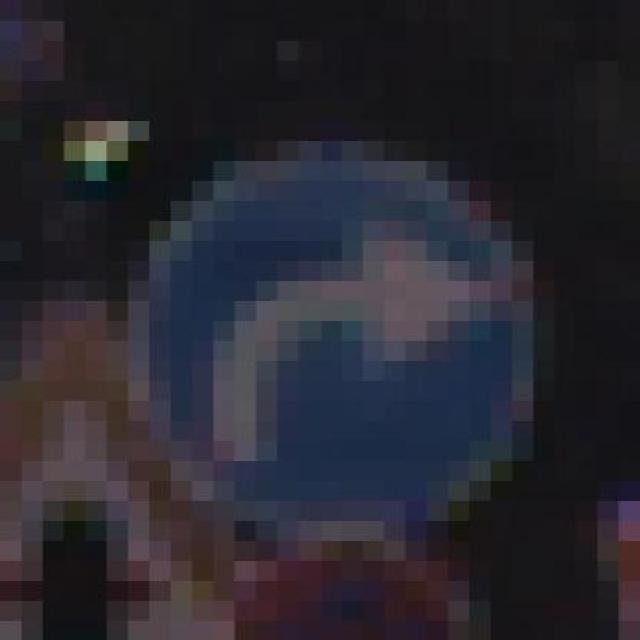Turn right ahead: (86, 120, 576, 540)
